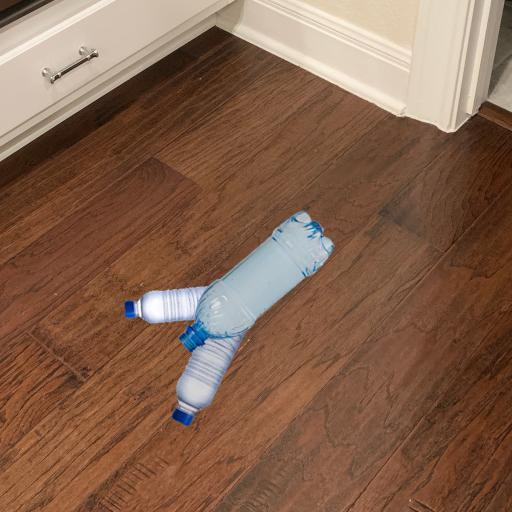bottle: (124, 198, 331, 435)
